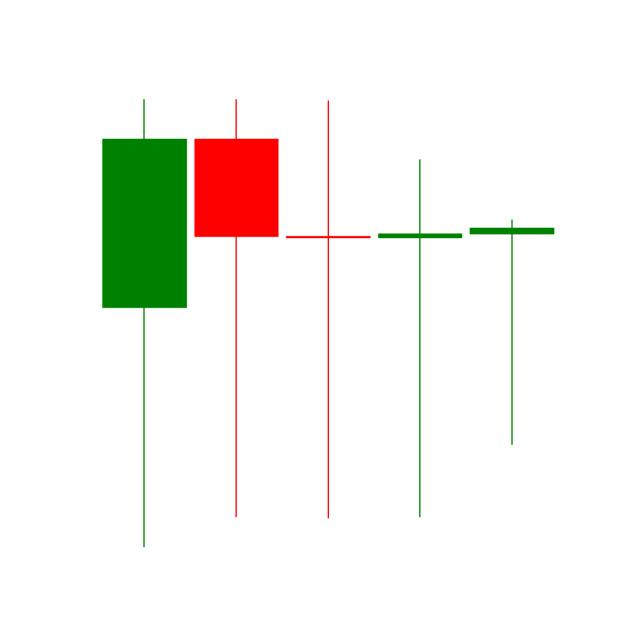Long-Legged Doji: (285, 97, 374, 520), (380, 155, 462, 522)
